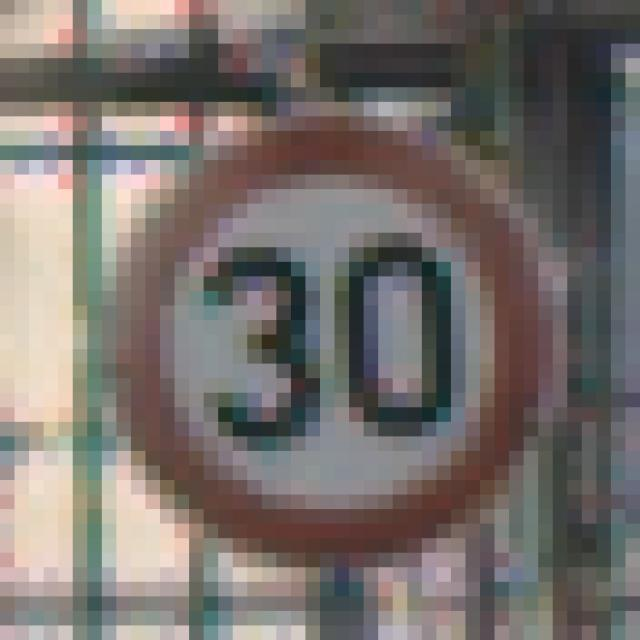Speed Limit -30-: (66, 66, 546, 546)
